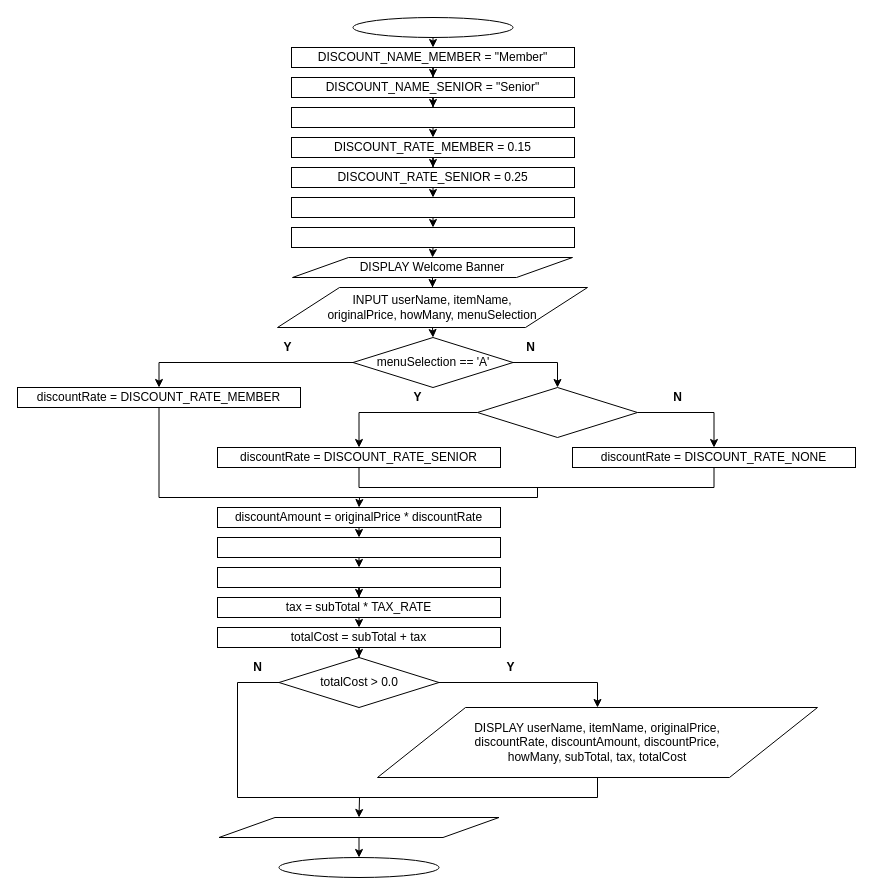
Image size: 873x895. Some labels were removed from this diagram. The centre of each missing label's shape, as x and y in pixels:
DISCOUNT_NAME_NONE = "No Discount": [432,117]
DISCOUNT_RATE_NONE = 0.0: [432,207]
discountPrice = originalPrice - discountAmount: [358,547]
menuSelection == 'B': [557,412]
START: [432,27]
STOP: [358,867]
subTotal = howMany * discountPrice: [358,577]
TAX_RATE = 0.075: [432,237]
